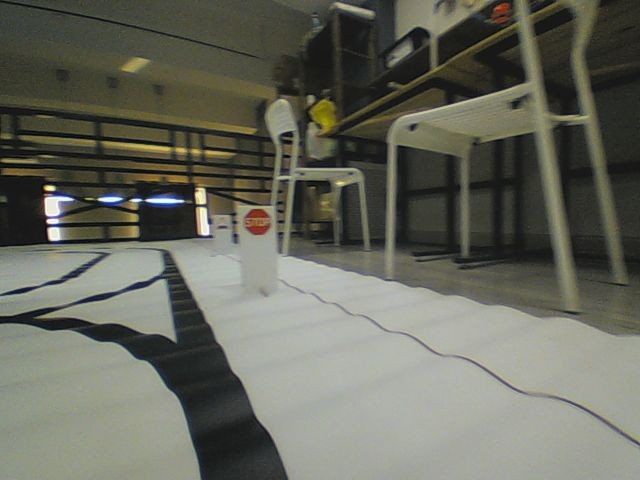Stop: (243, 208, 272, 236)
